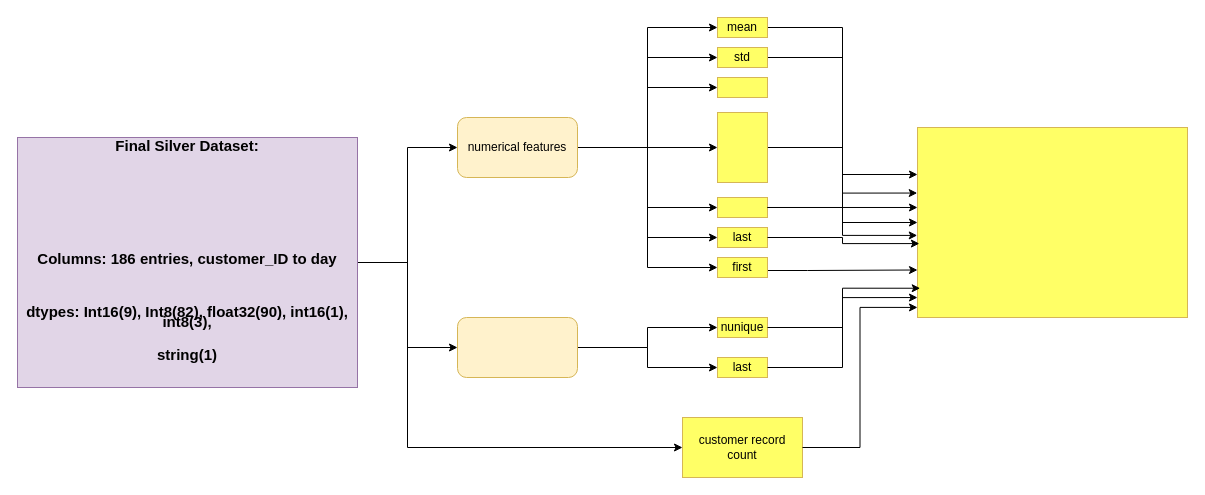
Image size: 1205x495. Some labels were removed from this diagram. The shapes that lost their labels are listed below. From the top down, each one's centre as x and y in pixels, then its label:
At point (742, 87): "min".
At point (742, 147): "difference features (last-first)".
At point (742, 207): "max".
At point (1052, 222): "Final Gold Data Columns: 1221 entries, P_2_mean to target dtypes: float32(1221)".
At point (517, 347): "categorical features".
